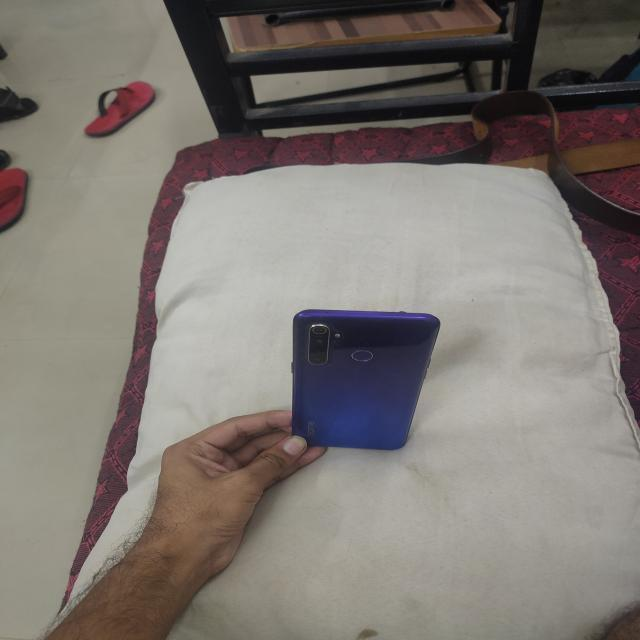Phone: (284, 306, 442, 455)
